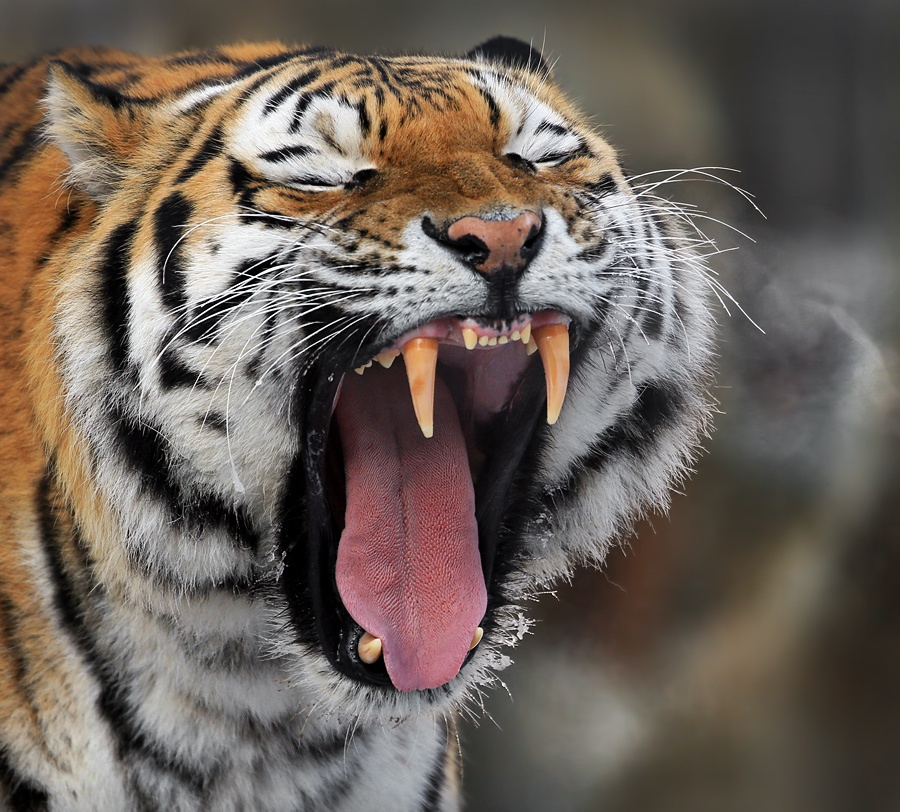tiger: (46, 13, 717, 770)
